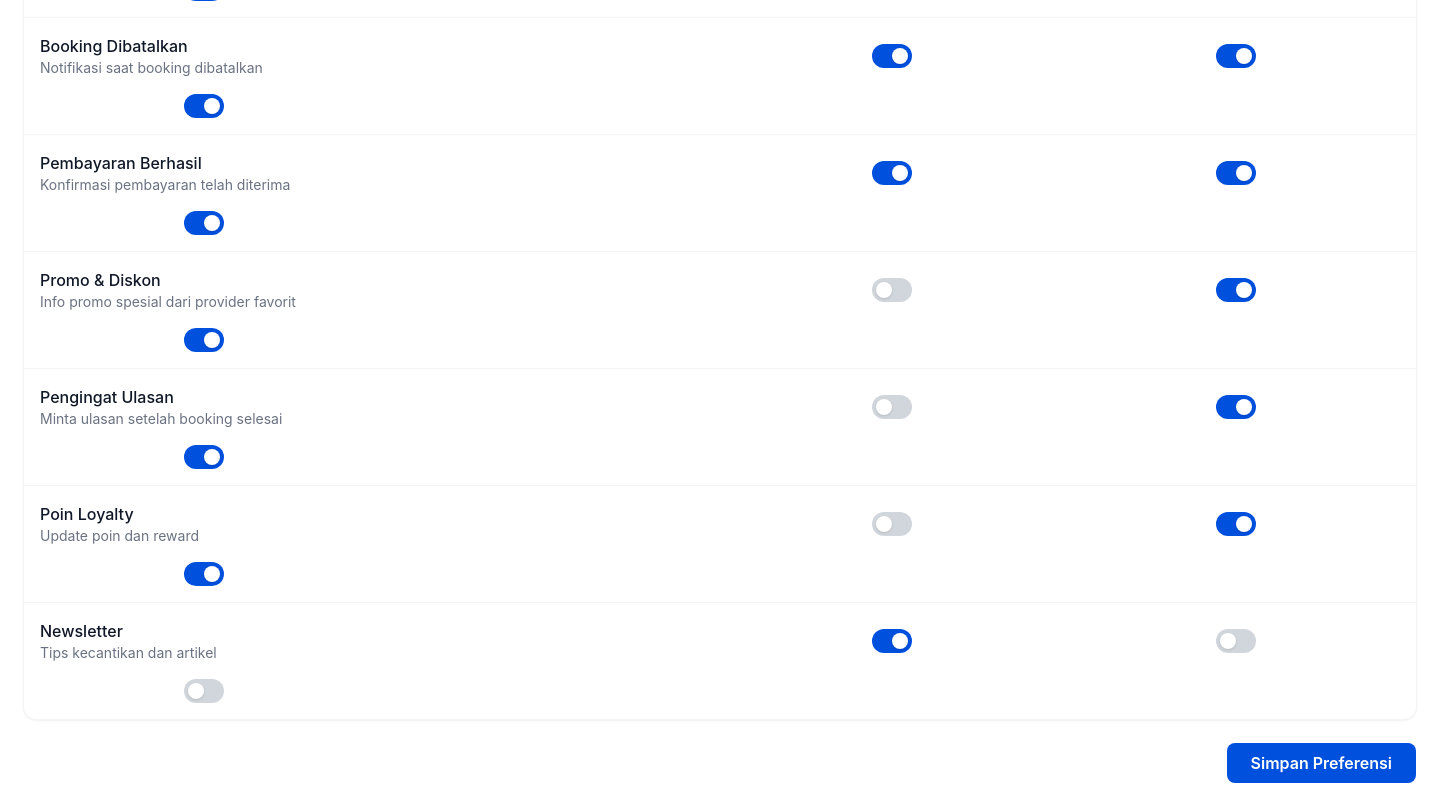
Scenario: NotificationPreferencesPage › save button shows "Menyimpan..." while pending
(page scrolled)
Click the button "Simpan Preferensi": (1321, 763) [1226,743,1416,783]
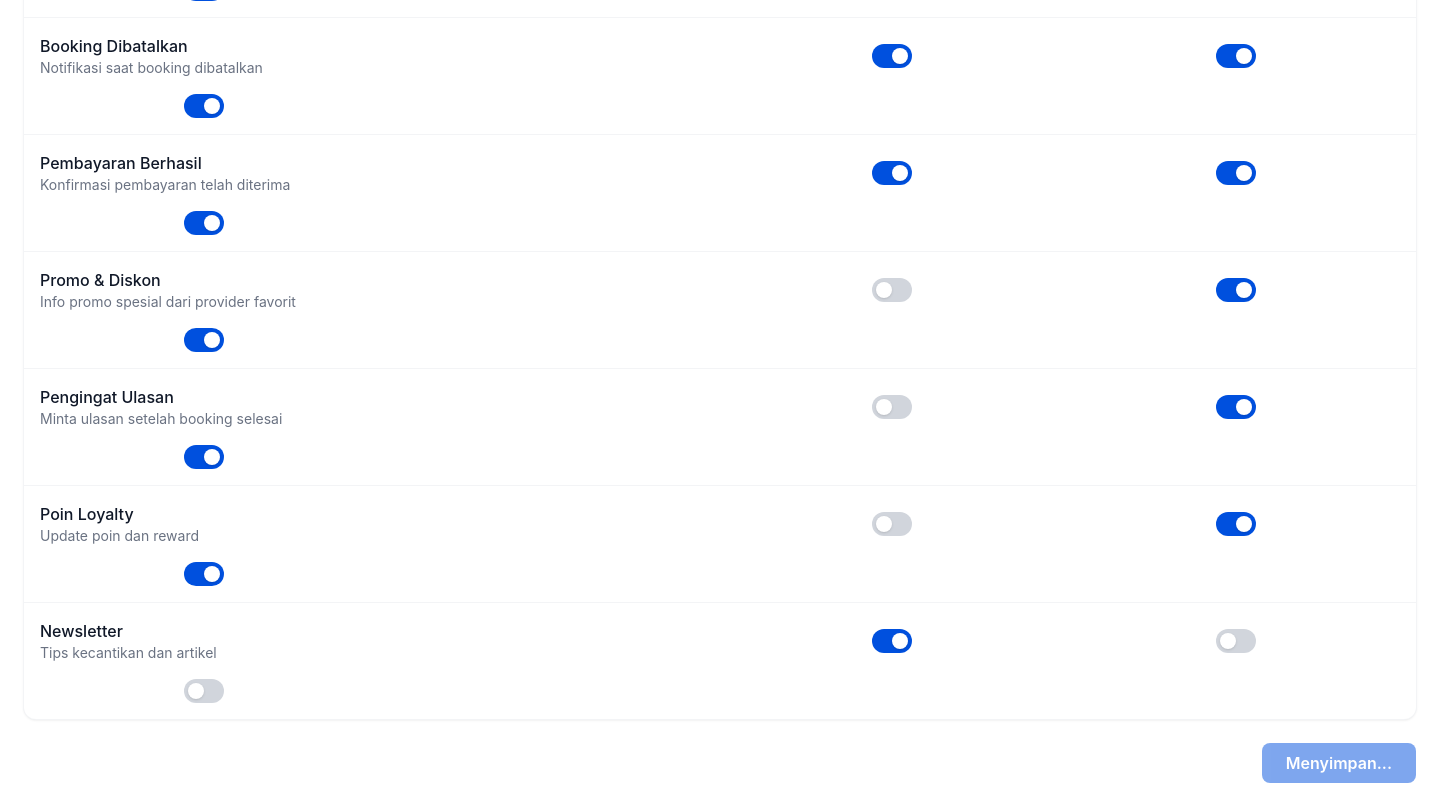
Expected: the button "Menyimpan..." is shown, [1262,743,1416,783]
